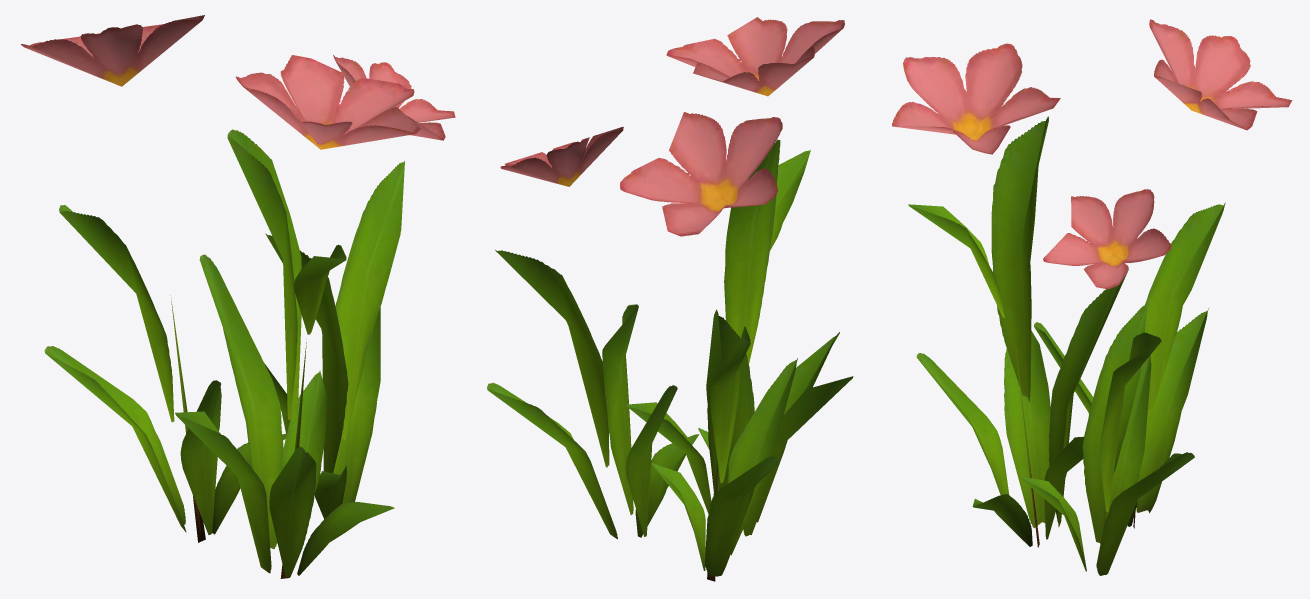
Rendered from Flower_3_Group.medium.gltf.
3 renders of one model, left to right at view 1: azimuth 30°, elevation 25°; view 2: azimuth 150°, elevation 25°; view 3: azimuth 270°, elevation 25°, orthographic. The views are drawn at different scales.
Visible parts, largest first — view 1: Flower_3_Group; view 2: Flower_3_Group; view 3: Flower_3_Group.
Part boxes in pixels (left/top/right/bottom): Flower_3_Group: left=21, top=15, right=455, bottom=578; Flower_3_Group: left=487, top=17, right=853, bottom=581; Flower_3_Group: left=892, top=19, right=1292, bottom=575.
Size of the model in its own units: 1.49 by 2.04 by 1.59.
2 materials, 2 textured.
